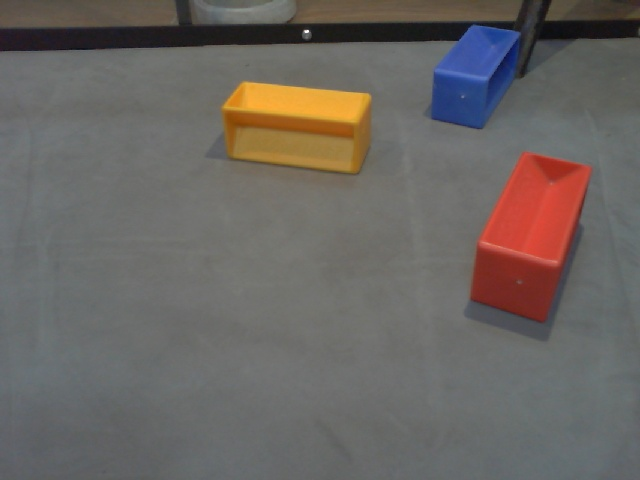BlueSample: (429, 20, 519, 130)
RedSample: (467, 149, 593, 325)
YellowSample: (219, 78, 375, 176)
